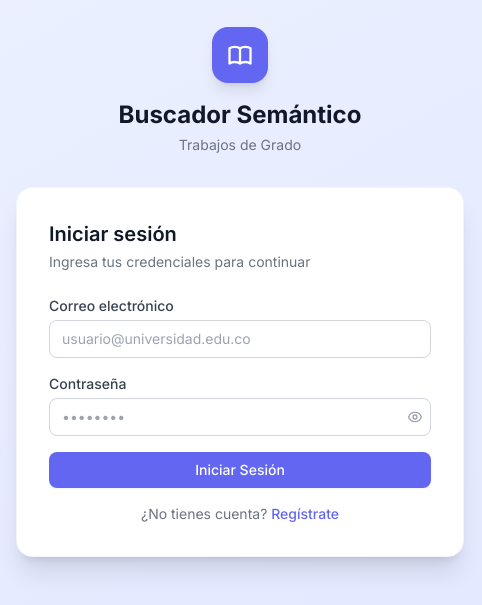
LoginPage › 3. muestra error si la contraseña tiene menos de 8 caracteres
Type "test@uni.edu.co" into the field labelled "Correo electrónico" at (240, 339), box [49,320,431,358]
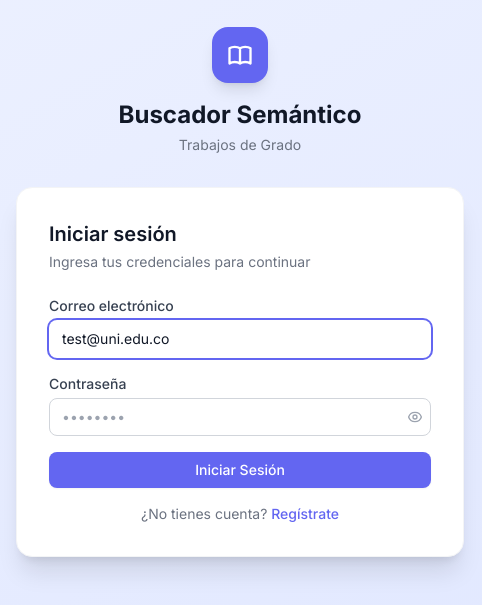
Type "1234" into the password field with placeholder "••••••••" at (240, 417), box [49,398,431,436]
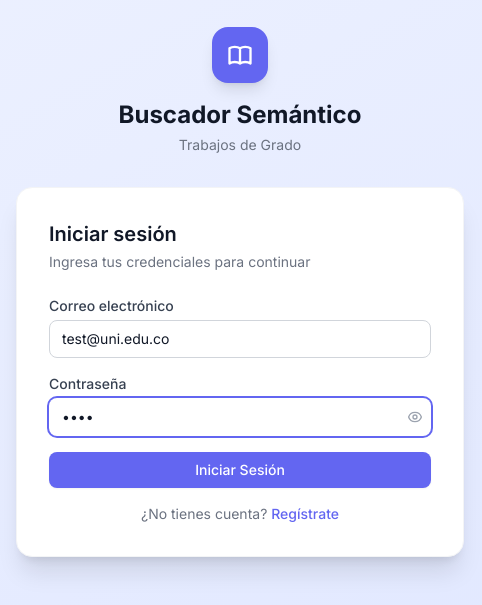
Click the button "Iniciar Sesión" at (240, 470), box [49,452,431,488]
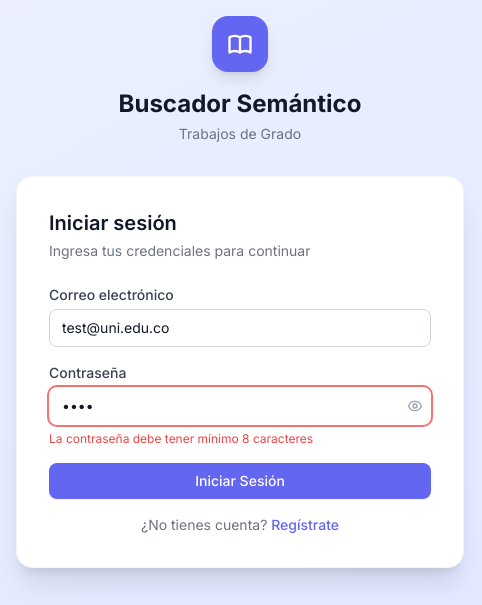
Now the text "La contraseña debe tener mínimo 8 caracteres" is shown, box [49,431,313,446]
